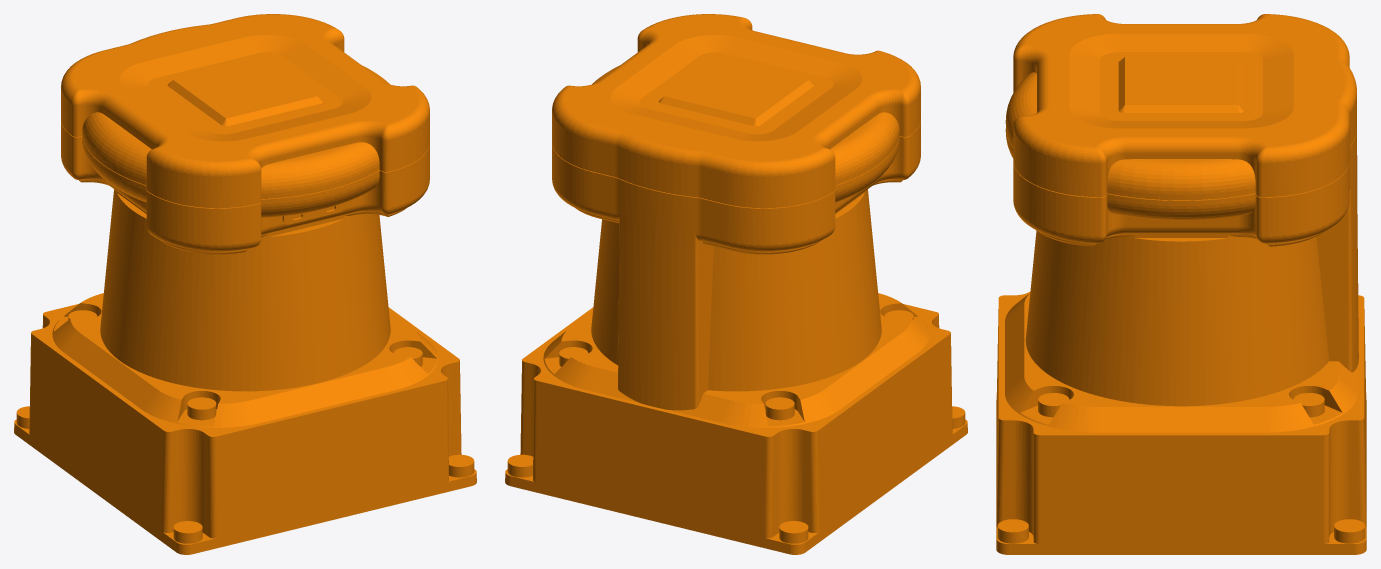
The model's file is hokuyo.dae.
3 renders of one model, left to right at view 1: azimuth 30°, elevation 25°; view 2: azimuth 150°, elevation 25°; view 3: azimuth 270°, elevation 25°, orthographic. The views are drawn at different scales.
Visible parts, largest first — view 1: 5c1697b57aeda015ebcfeafd; view 2: 5c1697b57aeda015ebcfeafd; view 3: 5c1697b57aeda015ebcfeafd.
Boxes of the visible parts, x1=… form: 5c1697b57aeda015ebcfeafd: x1=14, y1=14, x2=476, y2=554; 5c1697b57aeda015ebcfeafd: x1=505, y1=14, x2=967, y2=554; 5c1697b57aeda015ebcfeafd: x1=996, y1=14, x2=1366, y2=554.
Size of the model in its own units: 0.0594 by 0.0594 by 0.0702.
